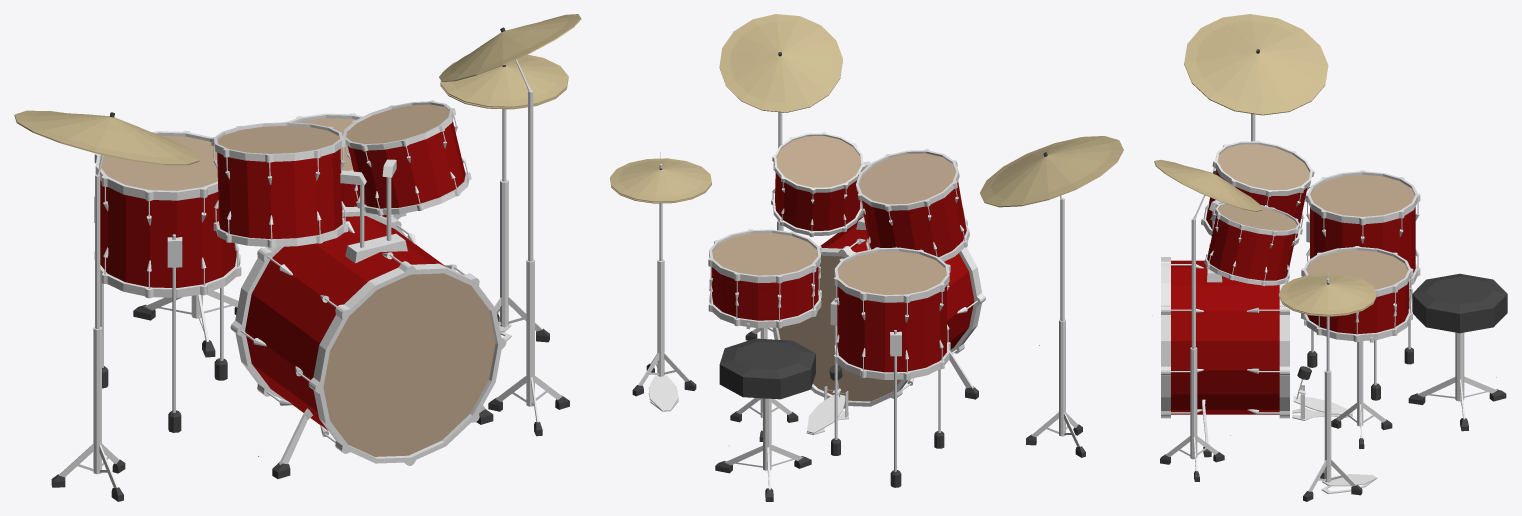
File: drumkitss.gltf
3 views of the same model, side by side, from view 1: azimuth 30°, elevation 25°; view 2: azimuth 150°, elevation 25°; view 3: azimuth 270°, elevation 25° (orthographic). The views are drawn at different scales.
Visible parts, largest first — view 1: Object_4, Object_3, Object_6, Object_2, Object_5; view 2: Object_4, Object_6, Object_2, Object_3, Object_5; view 3: Object_4, Object_6, Object_2, Object_3, Object_5.
Boxes of the visible parts, left/top/right/bottom form: Object_4: left=100, top=121, right=465, bottom=430; Object_3: left=100, top=104, right=495, bottom=456; Object_6: left=59, top=59, right=562, bottom=487; Object_2: left=14, top=14, right=581, bottom=165; Object_5: left=51, top=27, right=569, bottom=501; Object_4: left=711, top=172, right=974, bottom=372; Object_6: left=638, top=112, right=1080, bottom=489; Object_2: left=610, top=14, right=1123, bottom=207; Object_3: left=712, top=136, right=955, bottom=401; Object_5: left=632, top=52, right=1085, bottom=501; Object_4: left=1171, top=169, right=1415, bottom=414; Object_6: left=1152, top=114, right=1497, bottom=493; Object_2: left=1154, top=14, right=1376, bottom=316; Object_3: left=1217, top=144, right=1414, bottom=289; Object_5: left=1160, top=49, right=1507, bottom=501.
Bounding box in the file's own units: 1.85 × 1.22 × 1.29.
